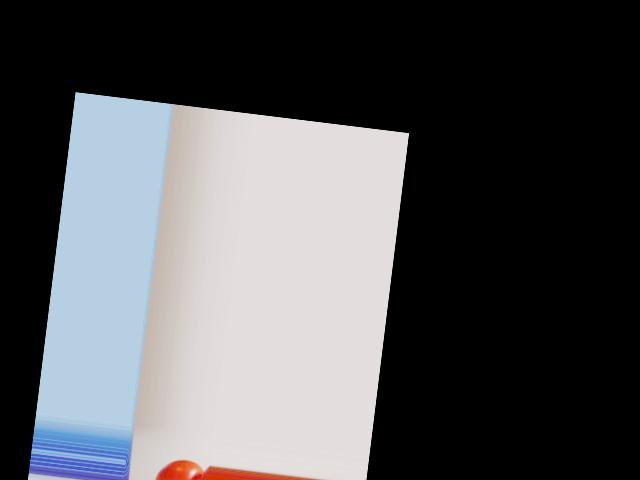tomato: (152, 456, 204, 480)
